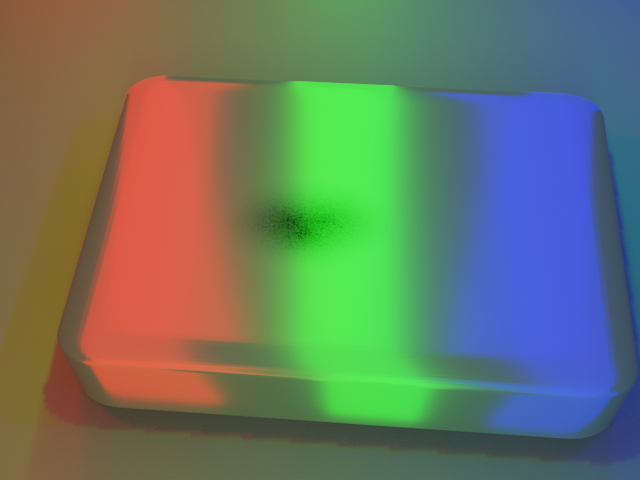stain: (186, 164, 430, 304)
